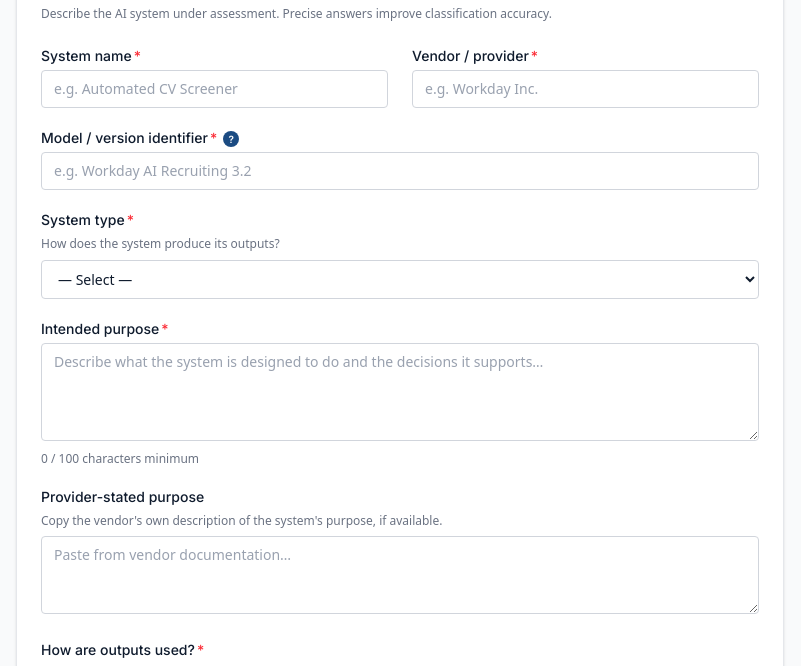
SystemRegistration › validates intended purpose minimum length
Replace the text in the text box with placeholder "Describe what the system is designed to do" with "Too short" at [400, 392], box [41,342,759,440]
(page scrolled)
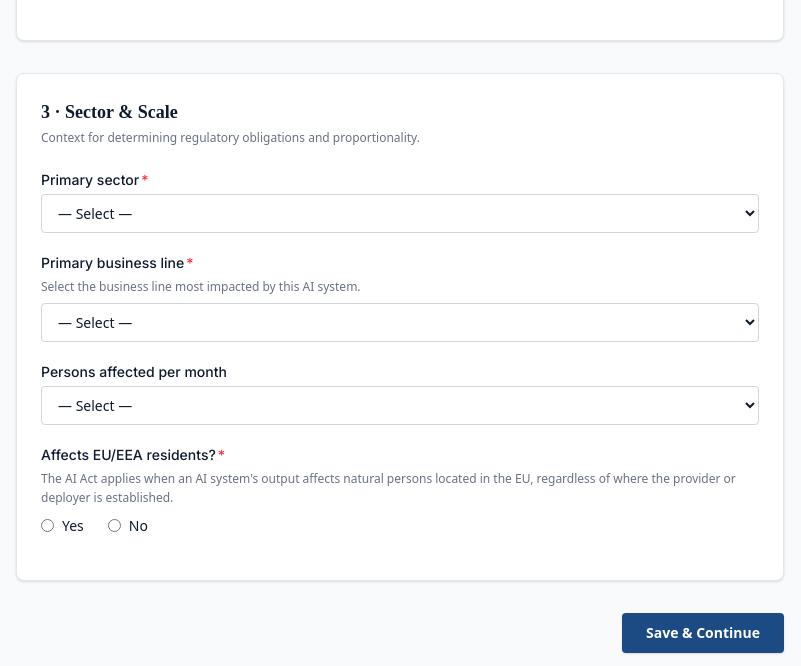
Click the button with test id "registration-submit" at [703, 632], box [622,612,784,652]
(page scrolled)
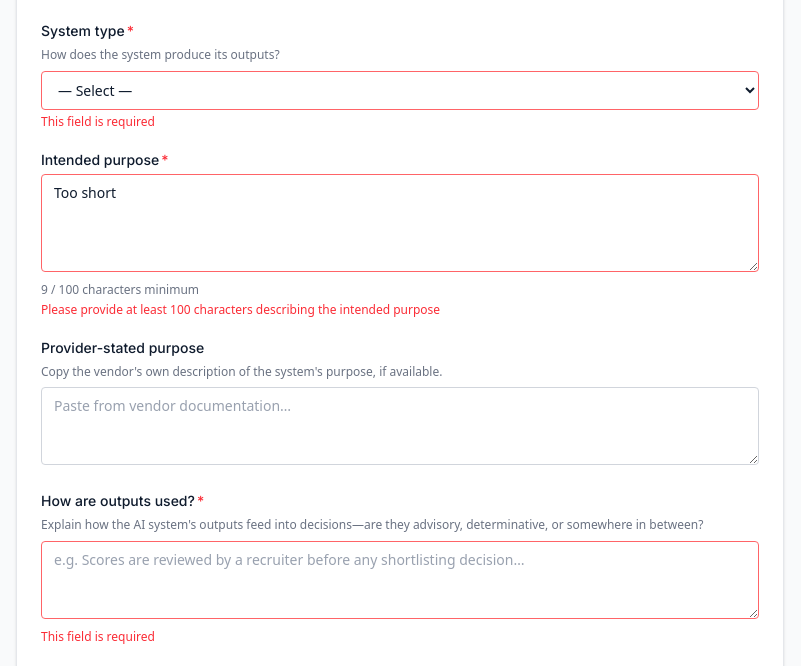
Expected: the text "at least 100 characters" is shown, [41,300,440,318]
